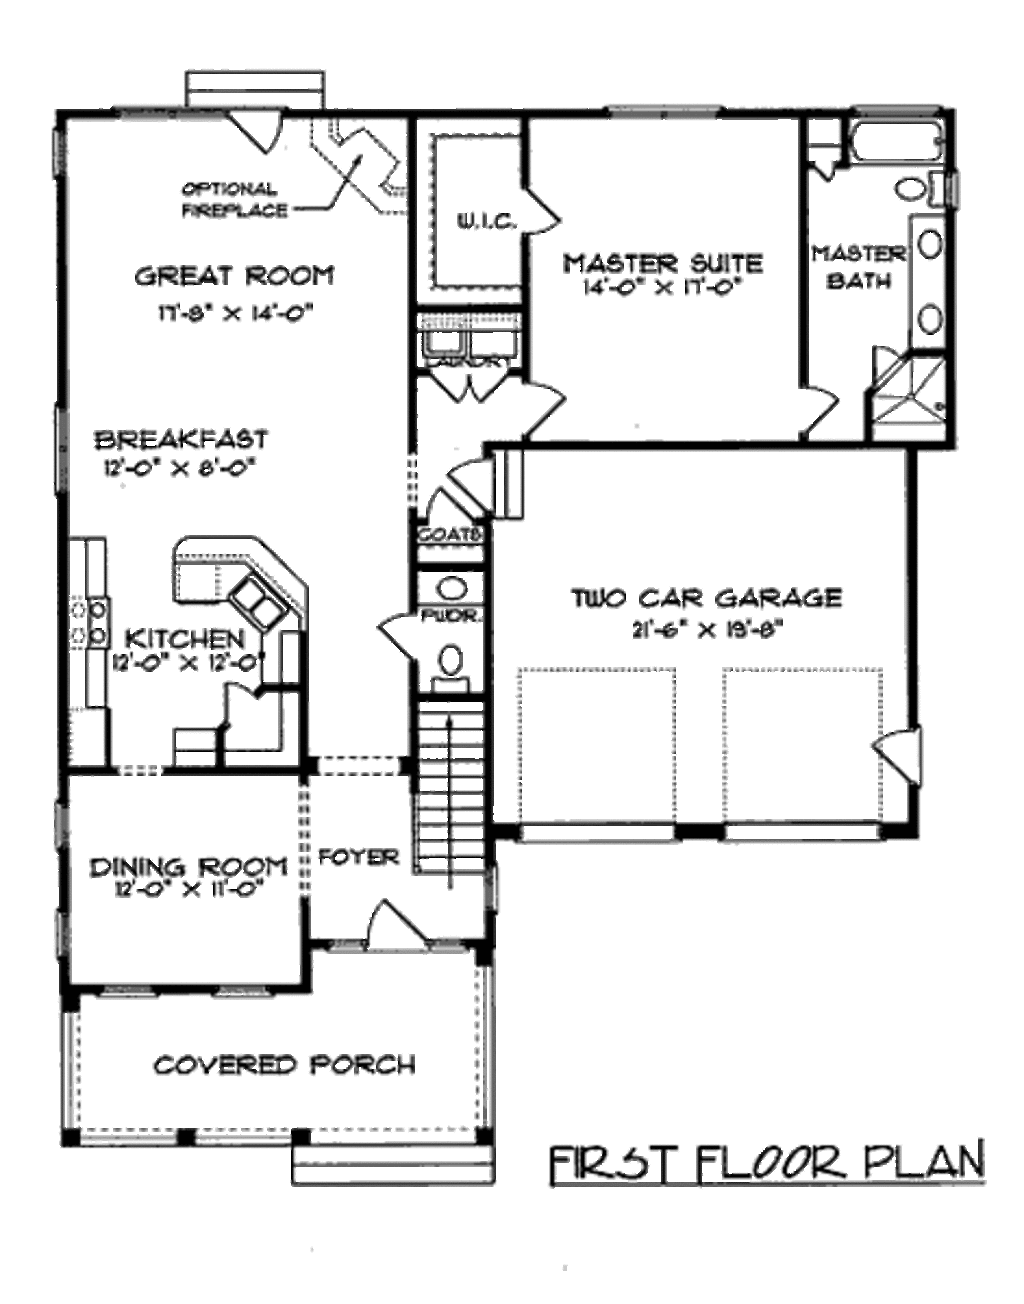door: (443, 443, 516, 519), (215, 98, 300, 162), (869, 719, 939, 789), (519, 378, 585, 452), (356, 893, 431, 955), (506, 184, 577, 246), (423, 363, 522, 405), (369, 602, 430, 667), (223, 670, 281, 732), (412, 486, 489, 531), (800, 385, 837, 435)
large_sink: (416, 639, 483, 701), (893, 169, 966, 213)
small_sink: (900, 215, 964, 357), (415, 574, 498, 601)
stairs: (402, 693, 500, 884), (415, 701, 498, 902)
tub: (848, 108, 956, 163)
twin_sink: (223, 562, 302, 636)
window: (25, 125, 104, 189), (29, 900, 80, 977), (196, 981, 295, 1017), (95, 978, 188, 1012), (43, 798, 80, 850)
